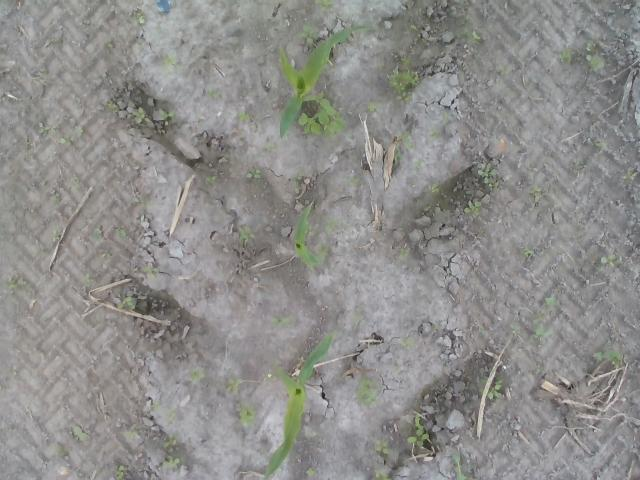Maize: (260, 331, 338, 480), (278, 29, 352, 140), (293, 207, 322, 270)
Weeds: (298, 90, 346, 140), (386, 54, 422, 106), (448, 0, 480, 45), (592, 340, 624, 368), (356, 375, 382, 409), (472, 159, 498, 192), (584, 40, 608, 74), (406, 414, 430, 447), (528, 311, 552, 340), (478, 375, 504, 399), (451, 453, 474, 480), (296, 23, 319, 48), (160, 50, 184, 72), (240, 400, 258, 426), (238, 223, 256, 248), (130, 106, 152, 126), (374, 436, 391, 459), (270, 313, 296, 328), (350, 304, 366, 327), (70, 422, 89, 441), (398, 129, 414, 150), (291, 169, 305, 193), (160, 454, 184, 468), (398, 335, 417, 352), (116, 295, 136, 311), (464, 198, 481, 216), (245, 168, 264, 184), (3, 278, 30, 289), (223, 377, 240, 394), (158, 110, 176, 126), (528, 182, 542, 202), (599, 255, 624, 266), (426, 127, 441, 145), (102, 98, 120, 113), (80, 272, 96, 288), (543, 294, 559, 310), (624, 167, 638, 184), (559, 48, 573, 65), (113, 463, 127, 480), (190, 368, 207, 382), (509, 319, 522, 337), (133, 8, 145, 27), (144, 266, 160, 280), (324, 218, 337, 235), (374, 469, 394, 480), (260, 142, 278, 154), (316, 0, 335, 11), (115, 224, 128, 240), (592, 138, 609, 150), (519, 246, 539, 256), (58, 134, 76, 145), (162, 434, 176, 448), (348, 174, 362, 188), (352, 24, 371, 34), (394, 144, 404, 161), (70, 176, 80, 193), (168, 408, 178, 425), (49, 192, 62, 205), (238, 111, 252, 123), (439, 110, 448, 128), (208, 88, 224, 98), (318, 244, 330, 257), (150, 400, 161, 414), (95, 224, 104, 241), (366, 103, 379, 114), (398, 247, 411, 258), (48, 231, 62, 241), (98, 248, 112, 258), (426, 183, 440, 193), (55, 446, 66, 458), (73, 127, 85, 137), (306, 466, 316, 478), (534, 366, 546, 376), (335, 15, 352, 22), (132, 197, 146, 205), (47, 38, 63, 45), (206, 175, 218, 184), (261, 372, 273, 381), (574, 160, 584, 170), (103, 39, 114, 48), (126, 432, 138, 440), (7, 366, 16, 376), (39, 126, 50, 134), (407, 24, 417, 32), (415, 159, 424, 167), (431, 323, 438, 333)
